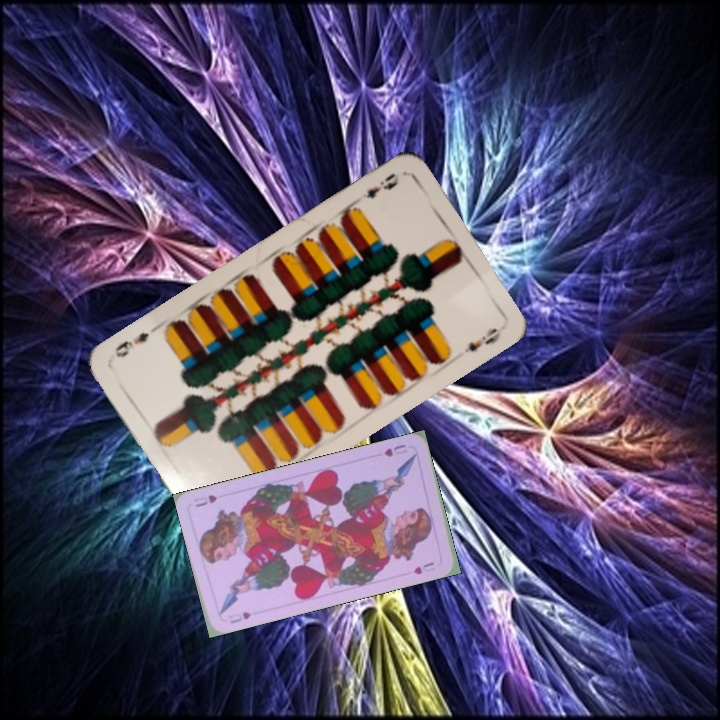E9: (358, 169, 402, 202)
HU: (380, 440, 409, 459), (225, 607, 254, 626)
